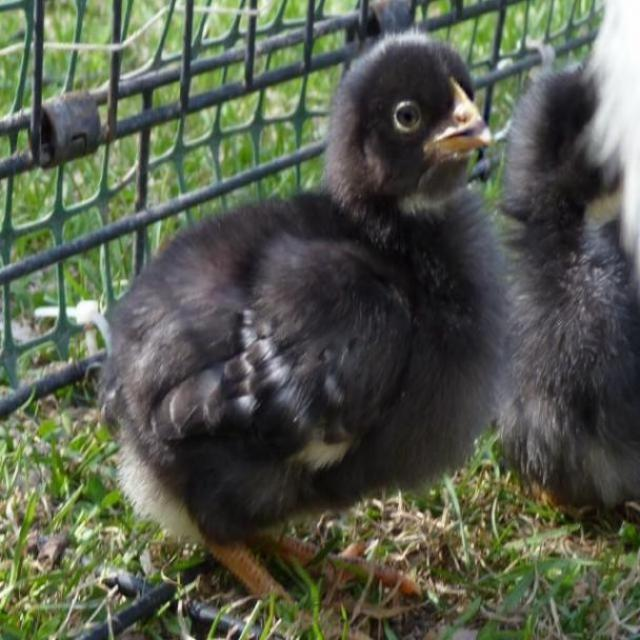Chicken: (126, 37, 504, 640)
